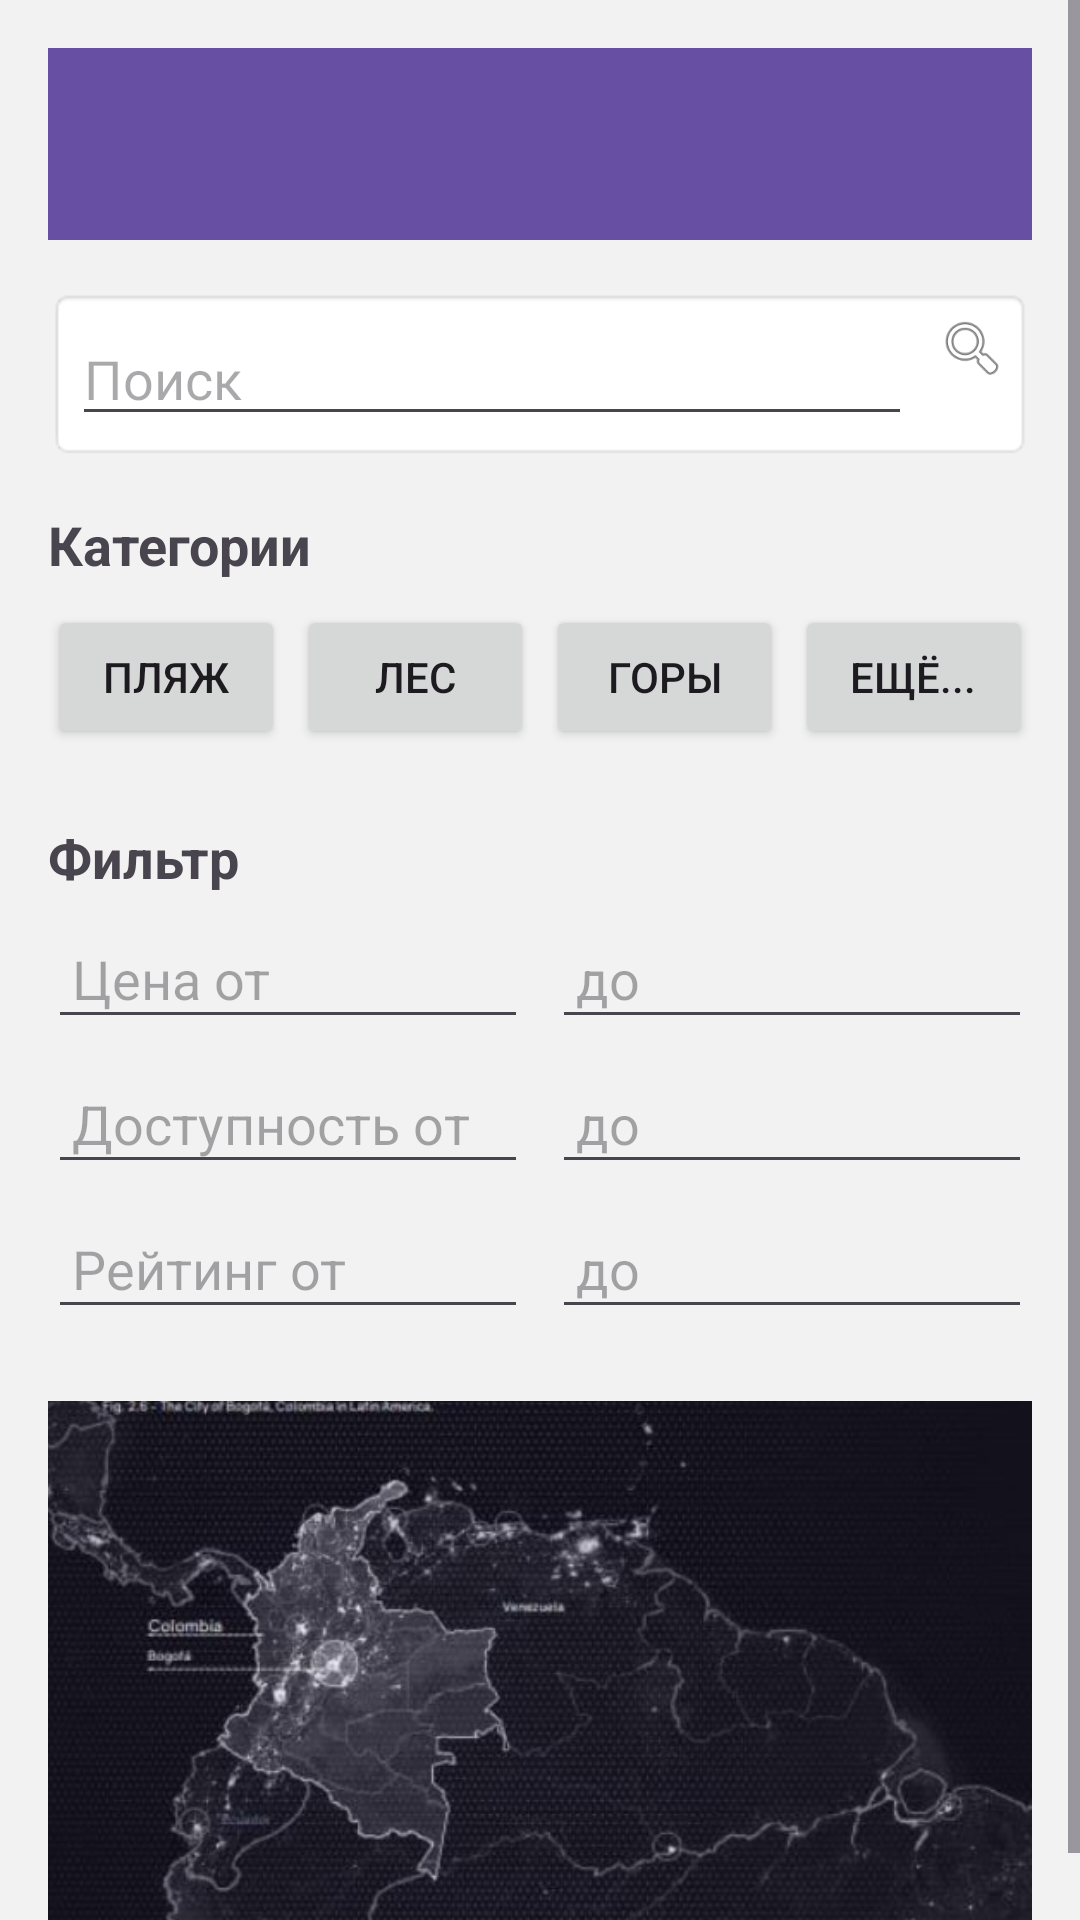

Screen size 1080w x 1920h. Icon name, then its center in pixels as (x,y):
search: (972,348)
